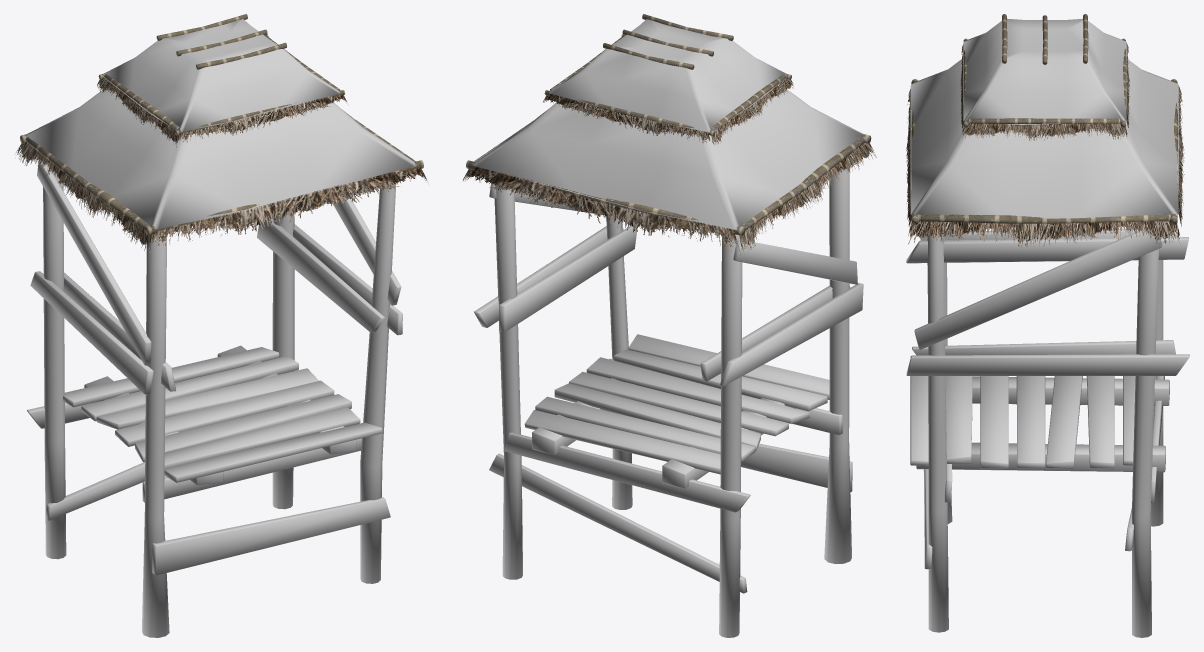
Rendered from tower.fbx.
3 views of the same model, side by side, from view 1: azimuth 30°, elevation 25°; view 2: azimuth 150°, elevation 25°; view 3: azimuth 270°, elevation 25° (orthographic). The views are drawn at different scales.
Visible parts, largest first — view 1: Mesh; view 2: Mesh; view 3: Mesh.
Boxes of the visible parts, x1,y1,x2,y2 form: Mesh: (16, 14, 427, 637); Mesh: (463, 14, 876, 637); Mesh: (906, 14, 1189, 637).
Size of the model in its own units: 508 by 903 by 428.
